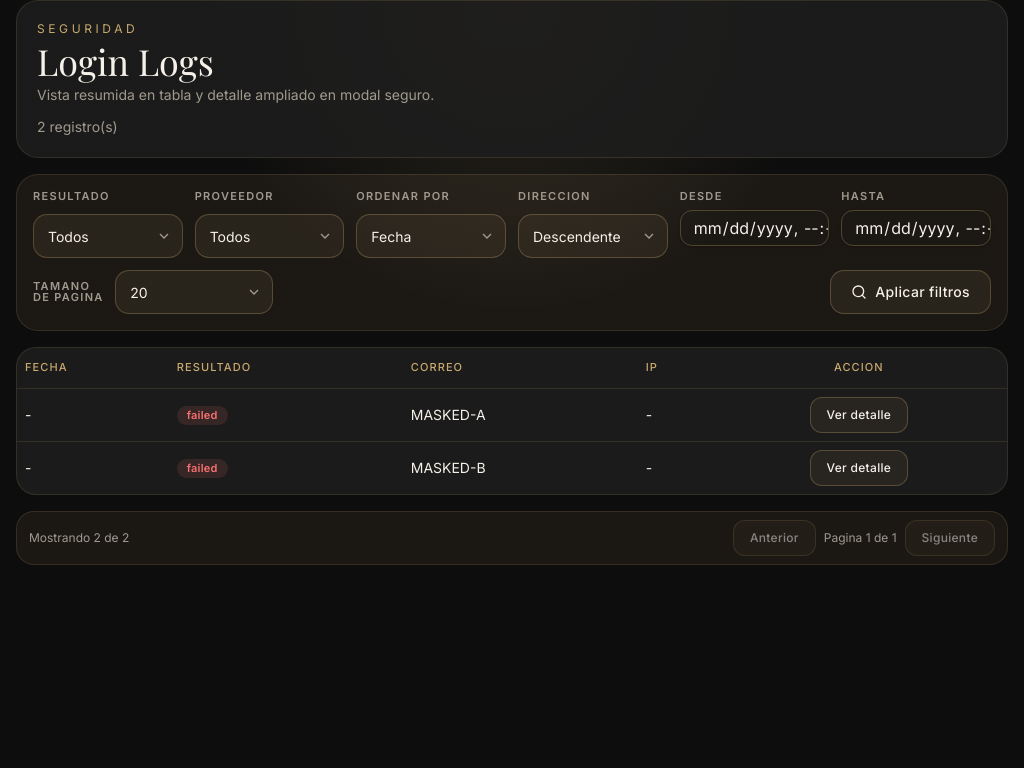
Test: detalle vigente presenta mensaje seguro ante fallo técnico
Click the button "Ver detalle" in the row of "MASKED-A" at (859, 414), box [810,396,908,432]
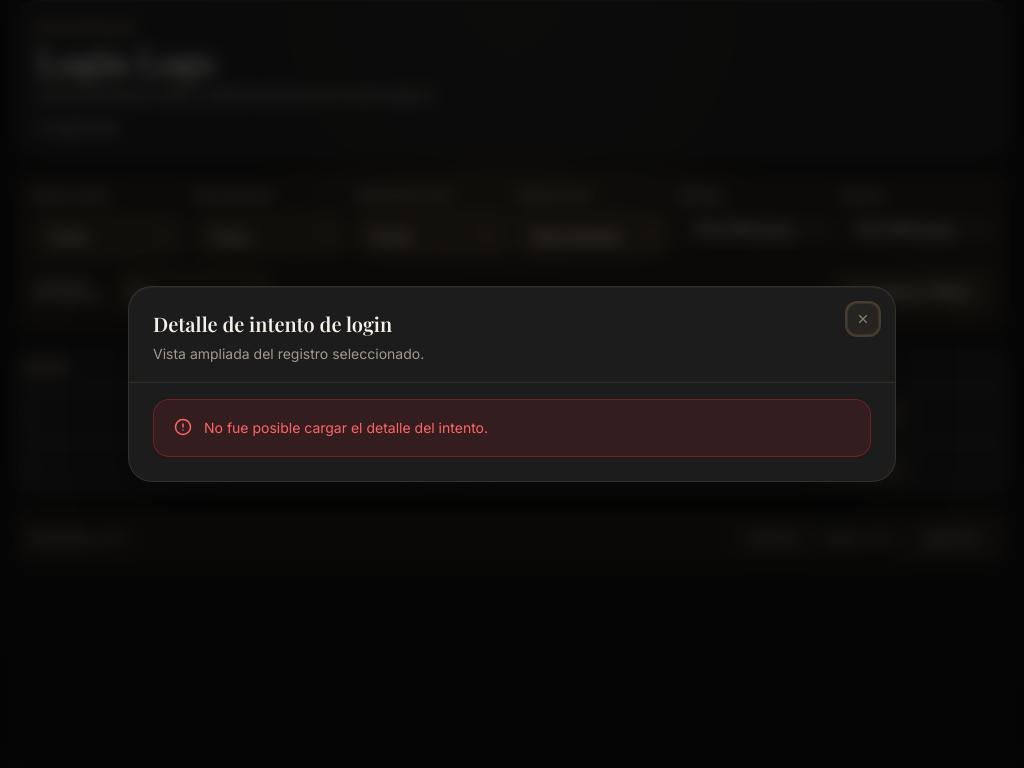
Expected: the text "No fue posible cargar el detalle del intento." is shown, [204,419,488,436]
